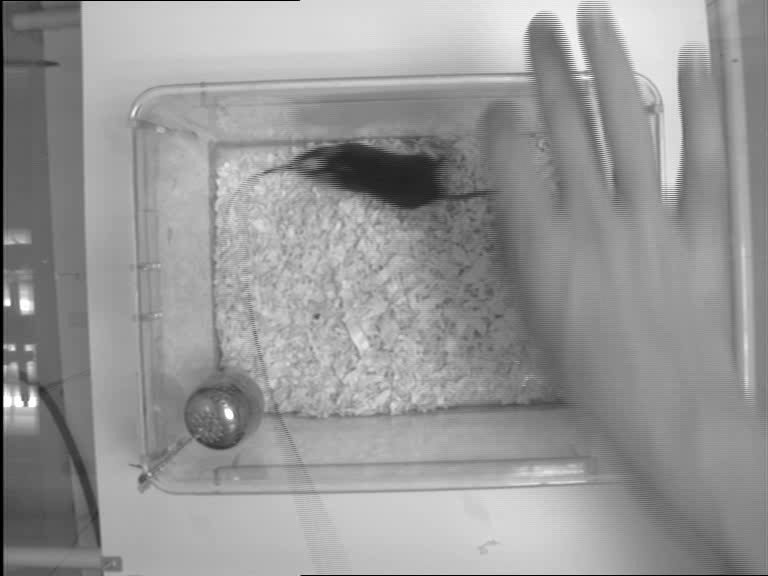mice: (290, 142, 493, 204)
